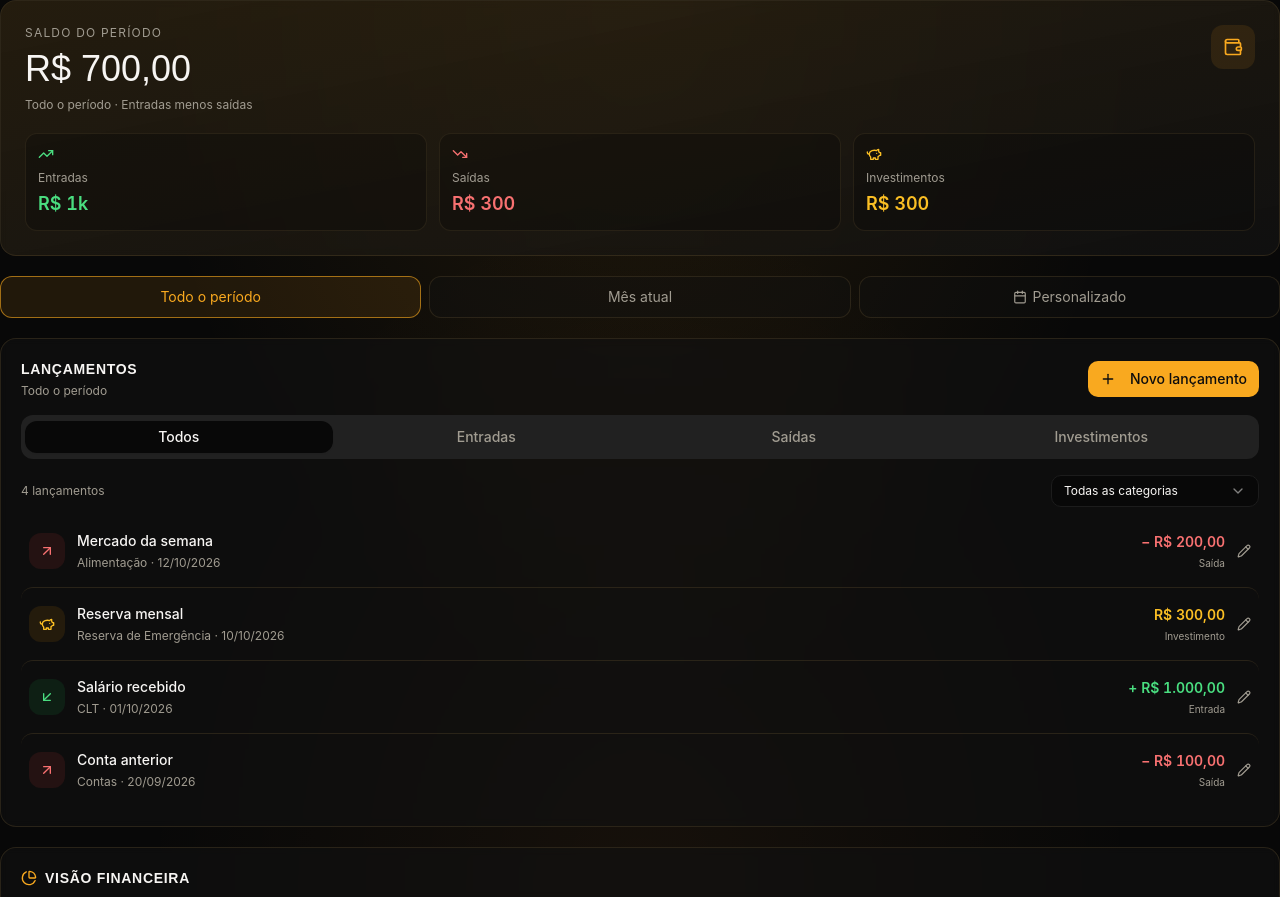
Test case: finance overview and unified transactions › opens the touched record for editing with its original data
The width and height of the screenshot is (1280, 897).
Click the button with aria-label "Editar saída: Mercado da semana": (47, 551) top-left (21, 515), bottom-right (1259, 587)
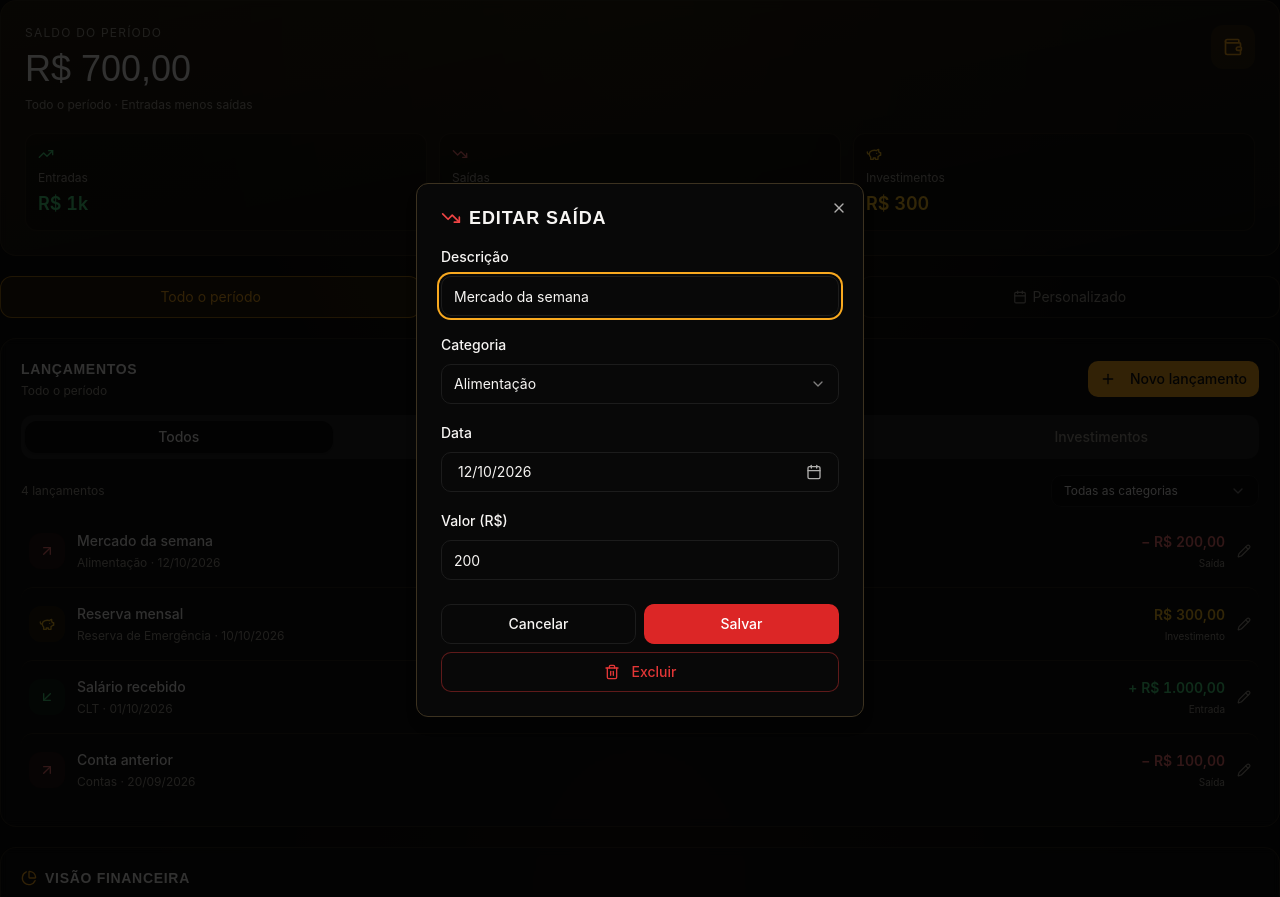
Now the field labelled "Descrição" holds "Mercado da semana", box top-left (441, 276), bottom-right (839, 316)
Now the number field labelled "Valor (R$)" holds "200", box top-left (441, 540), bottom-right (839, 580)
Now the button "12/10/2026" is shown, box top-left (441, 452), bottom-right (839, 492)
